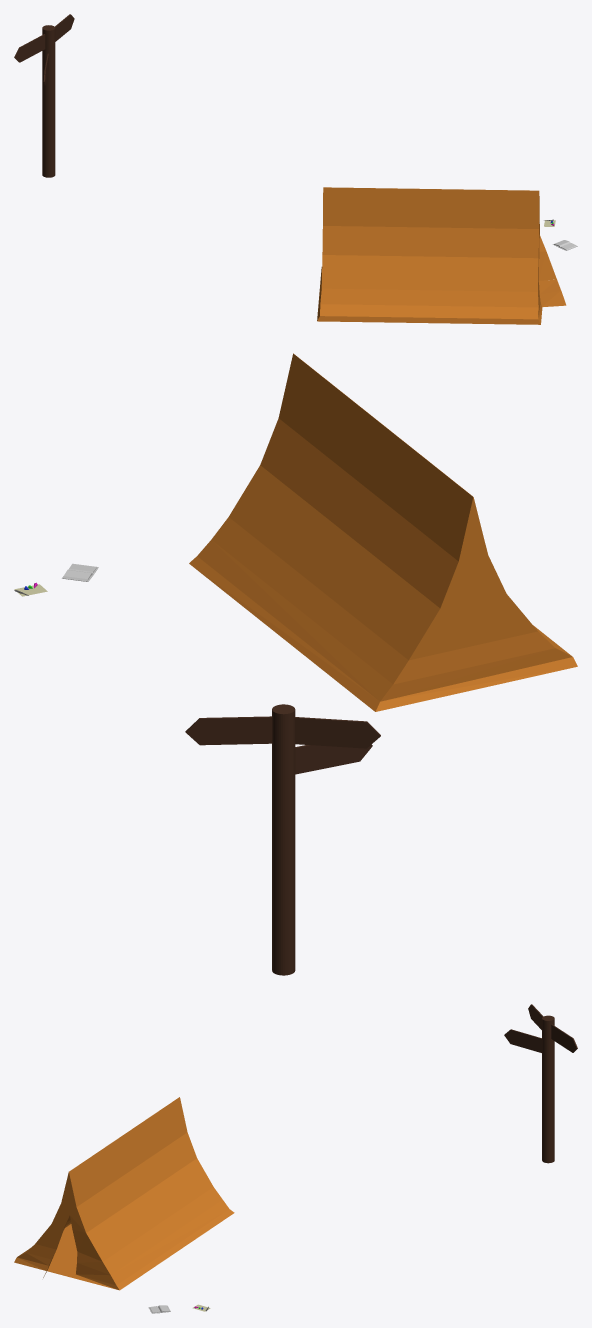
Rendered from bodies.obj.
3 views of the same model, one above another, from view 1: azimuth 30°, elevation 25°; view 2: azimuth 150°, elevation 25°; view 3: azimuth 270°, elevation 25° (orthographic). The views are drawn at different scales.
Parts seen in each view (by area): view 1: Tent, Post; view 2: Tent, Post; view 3: Tent, Post.
Part boxes in pixels (x1,y1,x2,y2): Tent: [317, 187, 566, 324]; Post: [14, 14, 74, 177]; Tent: [189, 353, 577, 711]; Post: [185, 704, 380, 975]; Tent: [14, 1097, 234, 1290]; Post: [504, 1004, 577, 1163].
Bounding box in the file's own units: 6.65 × 2.51 × 8.97.
